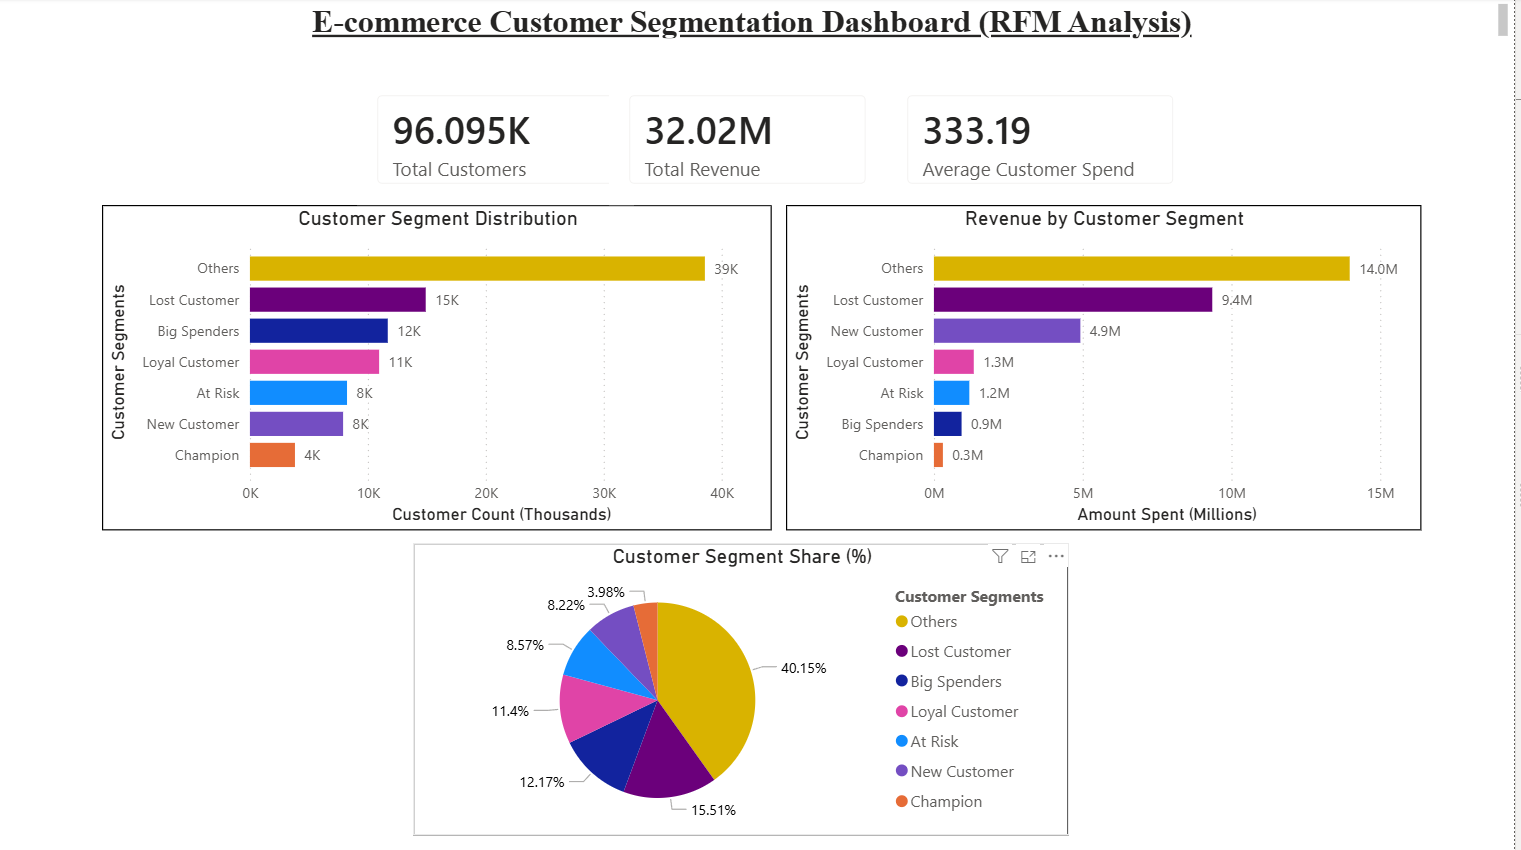

What the dashboard file says about the page in this screenshot:
{"tool":"powerbi","page":{"name":"Page 1","canvas":[1280,720],"ordinal":0},"visuals":[{"type":"clusteredBarChart","title":"Customer Segment Distribution","fields":{"Category":["rfm_analysis.customer_segment"],"Y":["CountNonNull(rfm_analysis.customer_unique_id)"]},"box":[87,174.9,566.2,275.5],"z":0},{"type":"cardVisual","fields":{"Data":["Count(rfm_analysis.customer_unique_id)"]},"box":[302.5,65.1,234.1,109.9],"z":1},{"type":"cardVisual","fields":{"Data":["Sum(rfm_analysis.total_spent)"]},"box":[515.5,65.1,234.9,109.9],"z":2},{"type":"cardVisual","fields":{"Data":["Avg(rfm_analysis.total_spent)"]},"box":[750.4,65.1,259.4,109.9],"z":3},{"type":"clusteredBarChart","title":"Revenue by Customer Segment","fields":{"Category":["rfm_analysis.customer_segment"],"Y":["Sum(rfm_analysis.total_spent)"]},"box":[665.1,174.9,536.6,275.5],"z":4},{"type":"pieChart","title":"Customer Segment Share (%)","fields":{"Category":["rfm_analysis.customer_segment"],"Y":["Count(rfm_analysis.customer_unique_id)"]},"box":[349.9,460.6,554.4,246.8],"z":5},{"type":"textbox","box":[0,0,1280.3,38.9],"z":6}]}

Visuals, with their boxes in screenshot pixels (x1, y1, x2, y2), scaled from the page's 1280x720 canvas onto the 1521x850 screenshot:
"Customer Segment Distribution" clusteredBarChart: box=[103, 206, 776, 532]
cardVisual - Count(rfm_analysis.customer_unique_id): box=[359, 77, 638, 207]
cardVisual - Sum(rfm_analysis.total_spent): box=[613, 77, 892, 207]
cardVisual - Avg(rfm_analysis.total_spent): box=[892, 77, 1200, 207]
"Revenue by Customer Segment" clusteredBarChart: box=[790, 206, 1428, 532]
"Customer Segment Share (%)" pieChart: box=[416, 544, 1075, 835]
textbox: box=[0, 0, 1520, 46]
